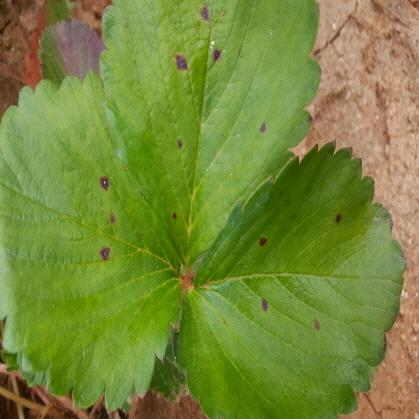Leaf Spot: (171, 139, 406, 418), (0, 68, 184, 412), (98, 0, 323, 270)
